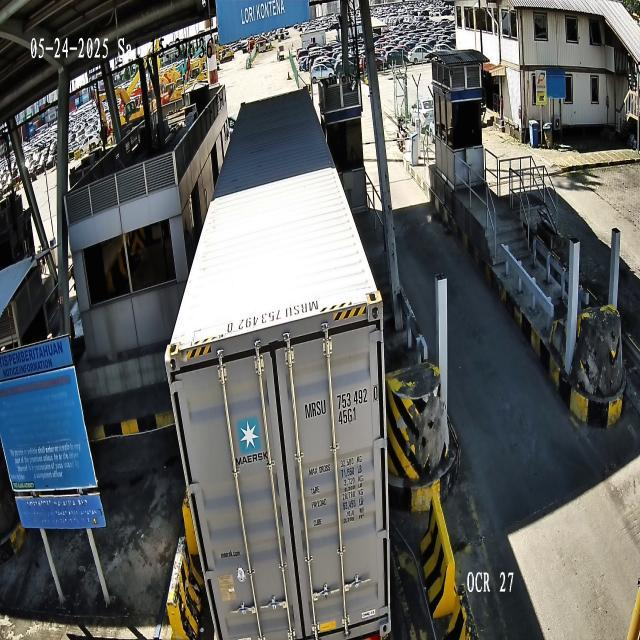ISO: (336, 406, 356, 427)
container_number: (304, 384, 378, 420)
